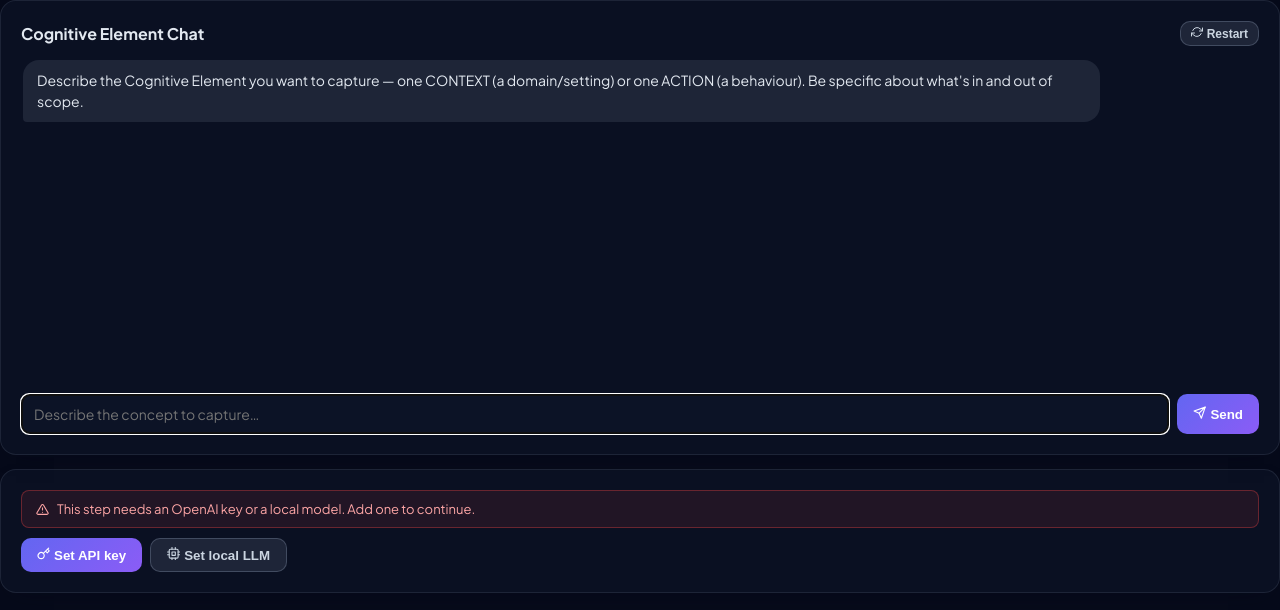
Step1CEChat — missing OpenAI key › a send with no key still reports the backend message over the upfront note
The width and height of the screenshot is (1280, 610).
Check: the text "This step needs an OpenAI key or a local model. Add one to continue." is shown, box [21,490,1259,528]
Type "some concept" into the field with placeholder "Describe the concept to capture…".
click(595, 414); type("some concept")  # box [21,394,1169,434]
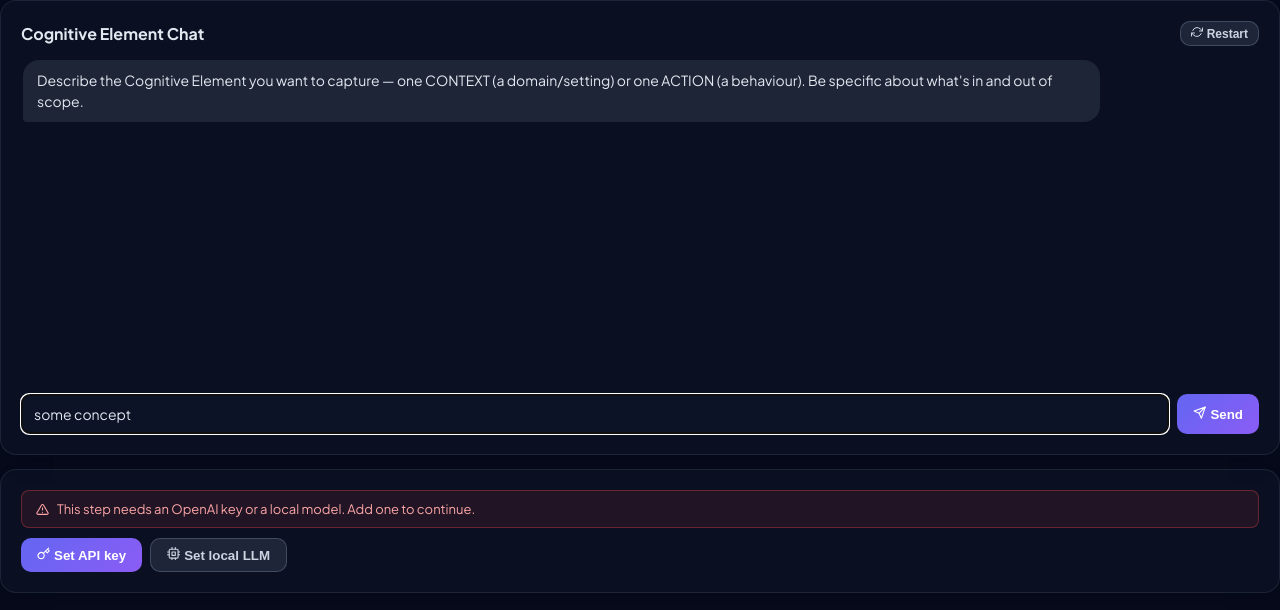
Click the button "Send".
click(1218, 414)  # box [1177,394,1259,434]
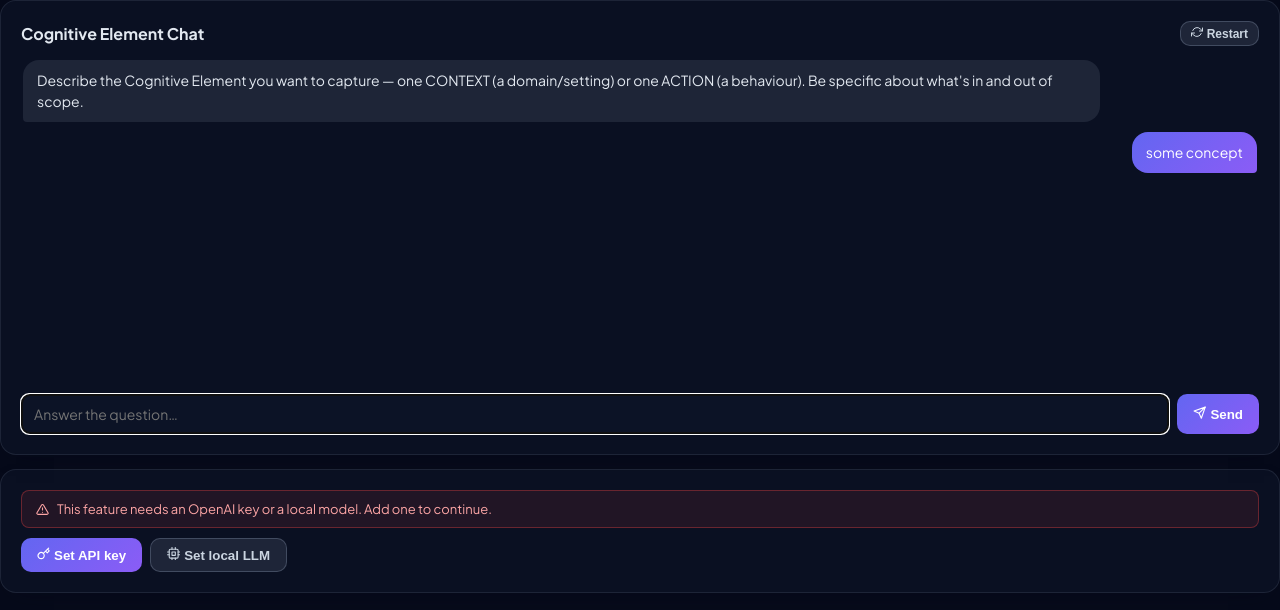
Check: the button "Set API key" is shown, box [21,538,142,572]
Check: the text "This feature needs an OpenAI key or a local model. Add one to continue." is shown, box [21,490,1259,528]
Check: the text "This step needs an OpenAI key or a local model. Add one to continue." is gone
